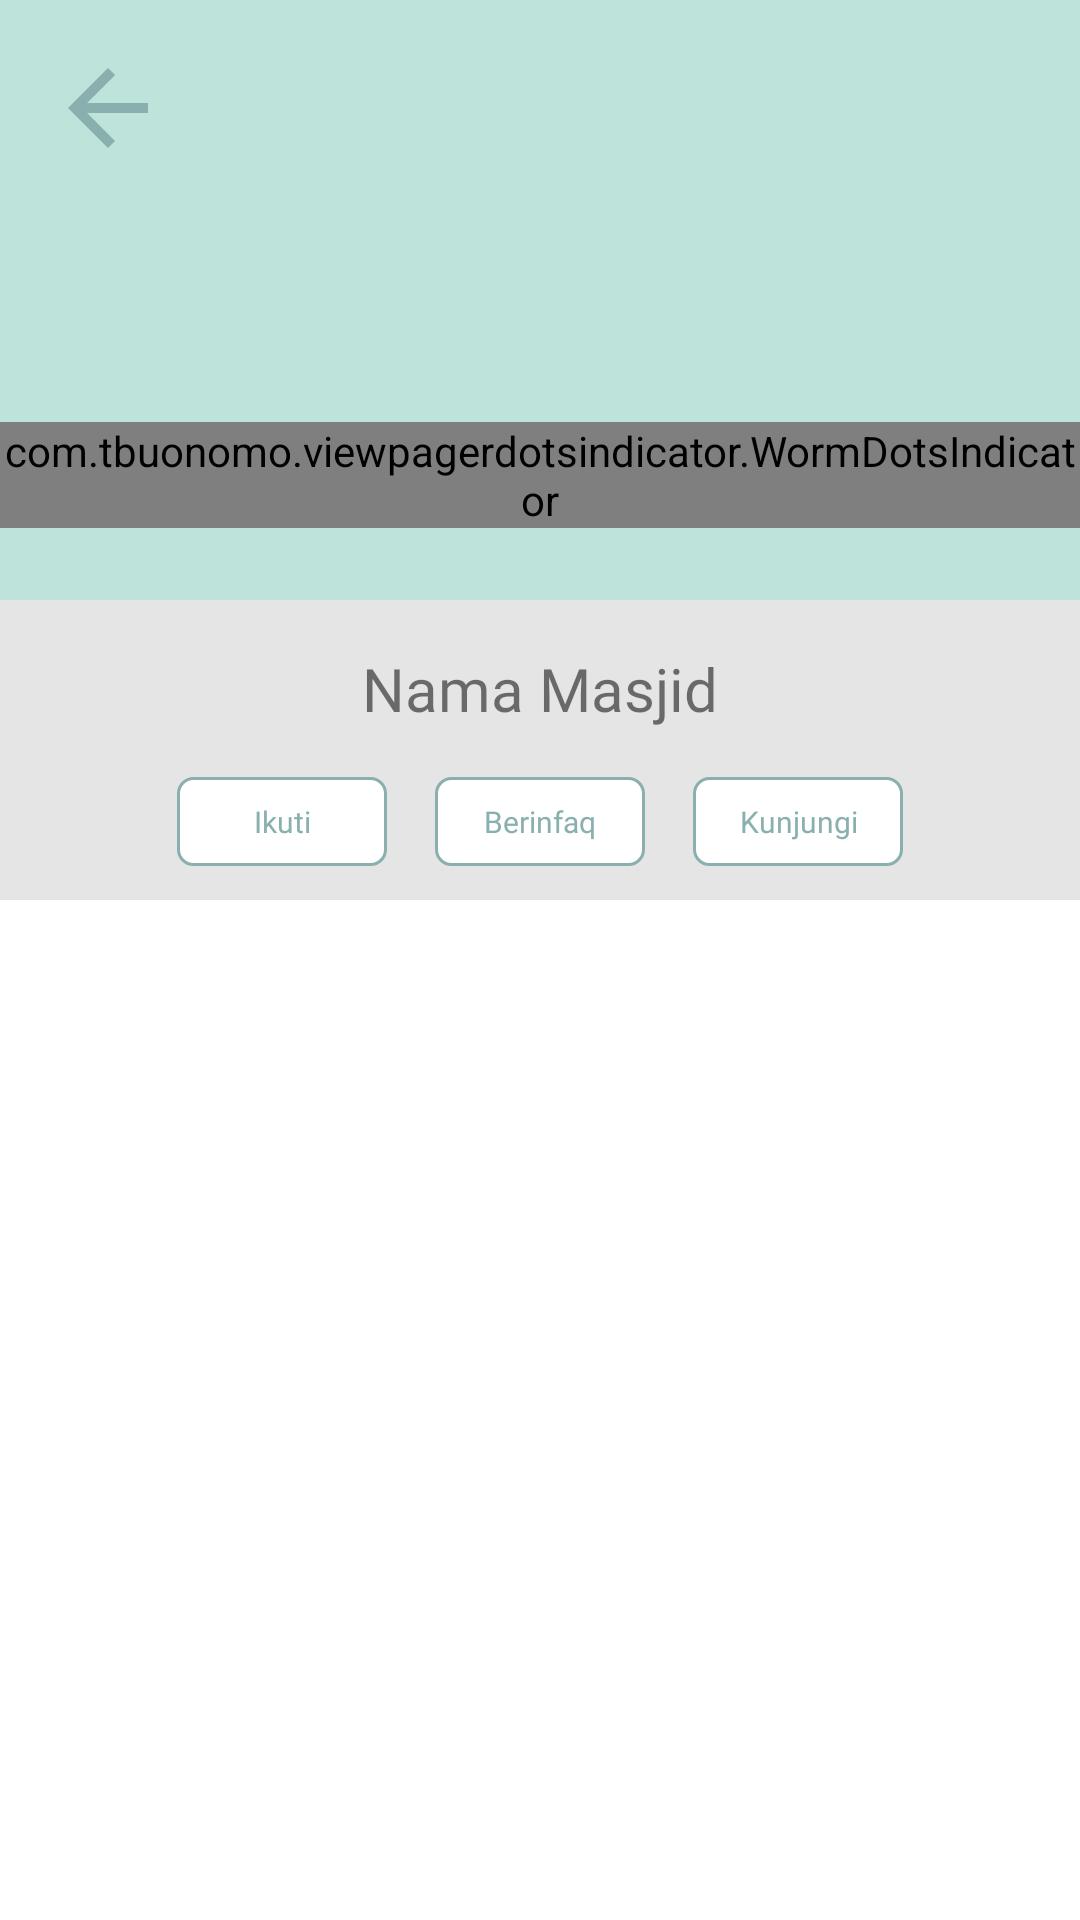

Screen size 1080px x 1920px. Icon name, then its box in pixels as [left=x1, top=y1, right=x2, bottom=y2]:
back arrow: [left=68, top=68, right=148, bottom=148]
